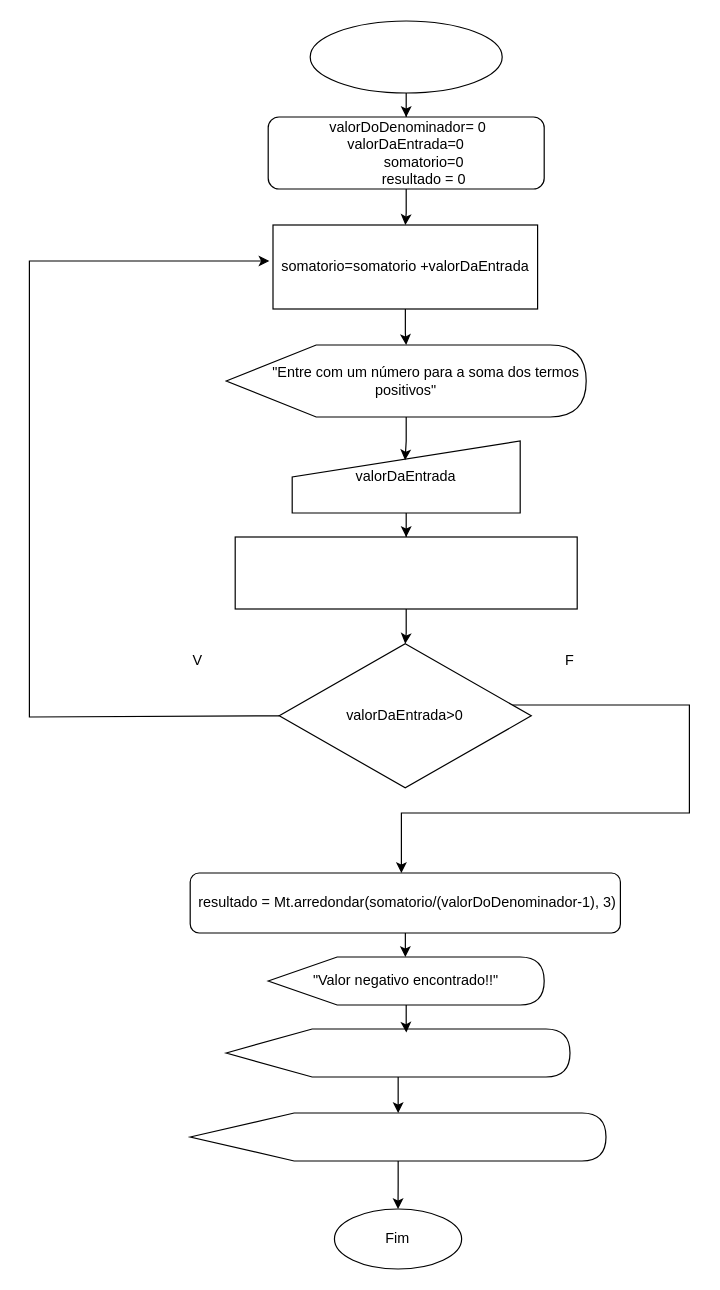
Some shapes in this 720 by 1290 pixel diagram are drawn without their labels. Here are the shapes that lost their labels. From the top down, the centre of each, then its label:
(405,56): Inicio
(405,572): valorDoDenominador = valorDoDenominador +1
(397,1052): " A média da soma dos termos positivos"
(397,1136): somatorio, "/ ", valorDoDenominador-1, " é:", resultado
